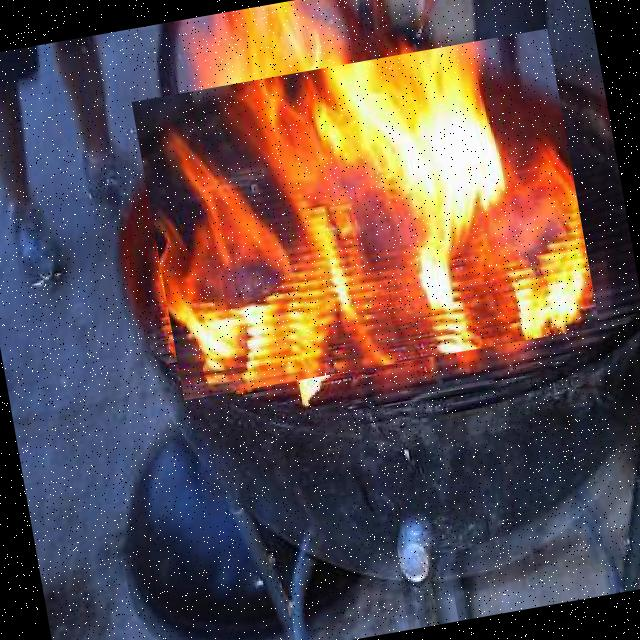fire: (132, 28, 600, 400)
